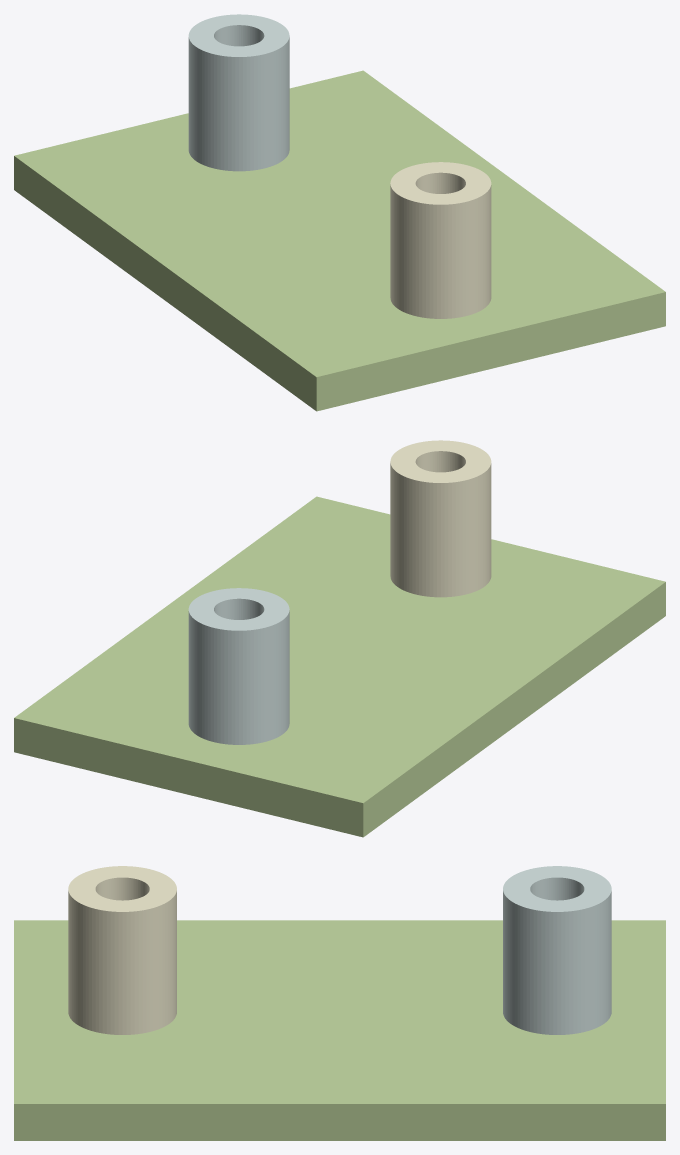
File: placed-assembly.glb
The picture shows the model from 3 angles, top to bottom: view 1: azimuth 30°, elevation 25°; view 2: azimuth 150°, elevation 25°; view 3: azimuth 270°, elevation 25°; orthographic projection. The views are drawn at different scales.
Visible parts, largest first — view 1: Instrument mounting plate / plate-1, Bored standoff · 8 OD × 4 ID × 10 / standoff-2, Bored standoff · 8 OD × 4 ID × 10 / standoff-1; view 2: Instrument mounting plate / plate-1, Bored standoff · 8 OD × 4 ID × 10 / standoff-1, Bored standoff · 8 OD × 4 ID × 10 / standoff-2; view 3: Instrument mounting plate / plate-1, Bored standoff · 8 OD × 4 ID × 10 / standoff-1, Bored standoff · 8 OD × 4 ID × 10 / standoff-2.
Boxes of the visible parts, box(x1,y1,x2,y2) form: Instrument mounting plate / plate-1: box(14, 70, 665, 411); Bored standoff · 8 OD × 4 ID × 10 / standoff-2: box(188, 14, 289, 171); Bored standoff · 8 OD × 4 ID × 10 / standoff-1: box(390, 162, 491, 318); Instrument mounting plate / plate-1: box(14, 496, 665, 837); Bored standoff · 8 OD × 4 ID × 10 / standoff-1: box(390, 440, 491, 597); Bored standoff · 8 OD × 4 ID × 10 / standoff-2: box(188, 588, 289, 744); Instrument mounting plate / plate-1: box(14, 920, 665, 1140); Bored standoff · 8 OD × 4 ID × 10 / standoff-1: box(68, 866, 176, 1034); Bored standoff · 8 OD × 4 ID × 10 / standoff-2: box(503, 866, 611, 1034).
Bounding box in the file's own units: 0.032 × 0.013 × 0.048.
